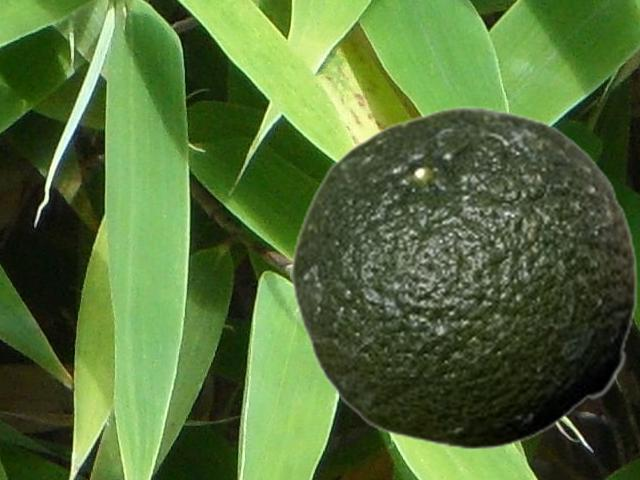calamansi: (290, 106, 637, 449)
